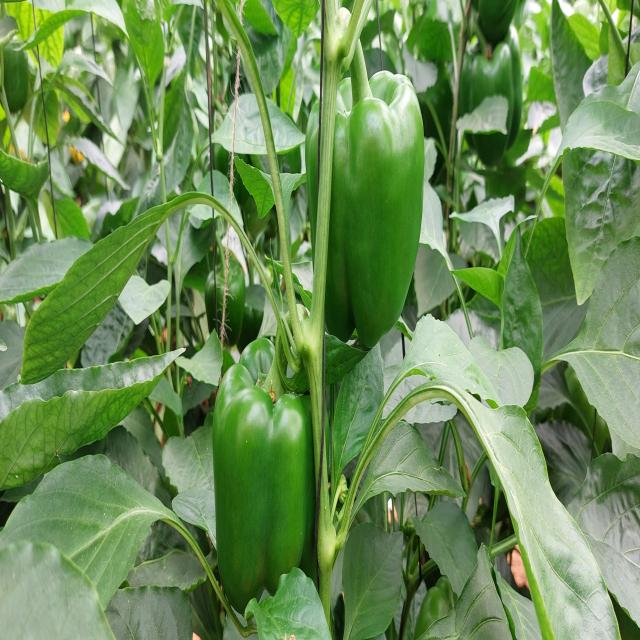Green--Not-ready-to-harvest: (302, 89, 426, 347), (214, 353, 316, 608)
